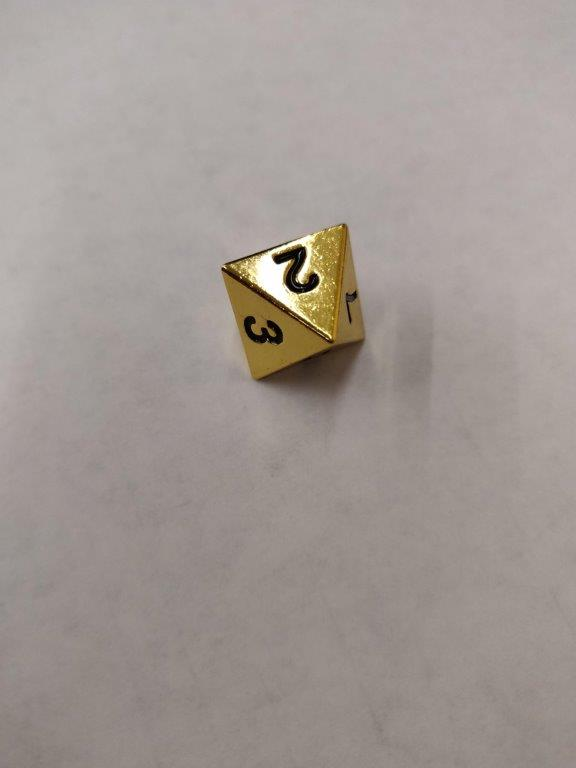d8-2: (223, 222, 369, 383)
